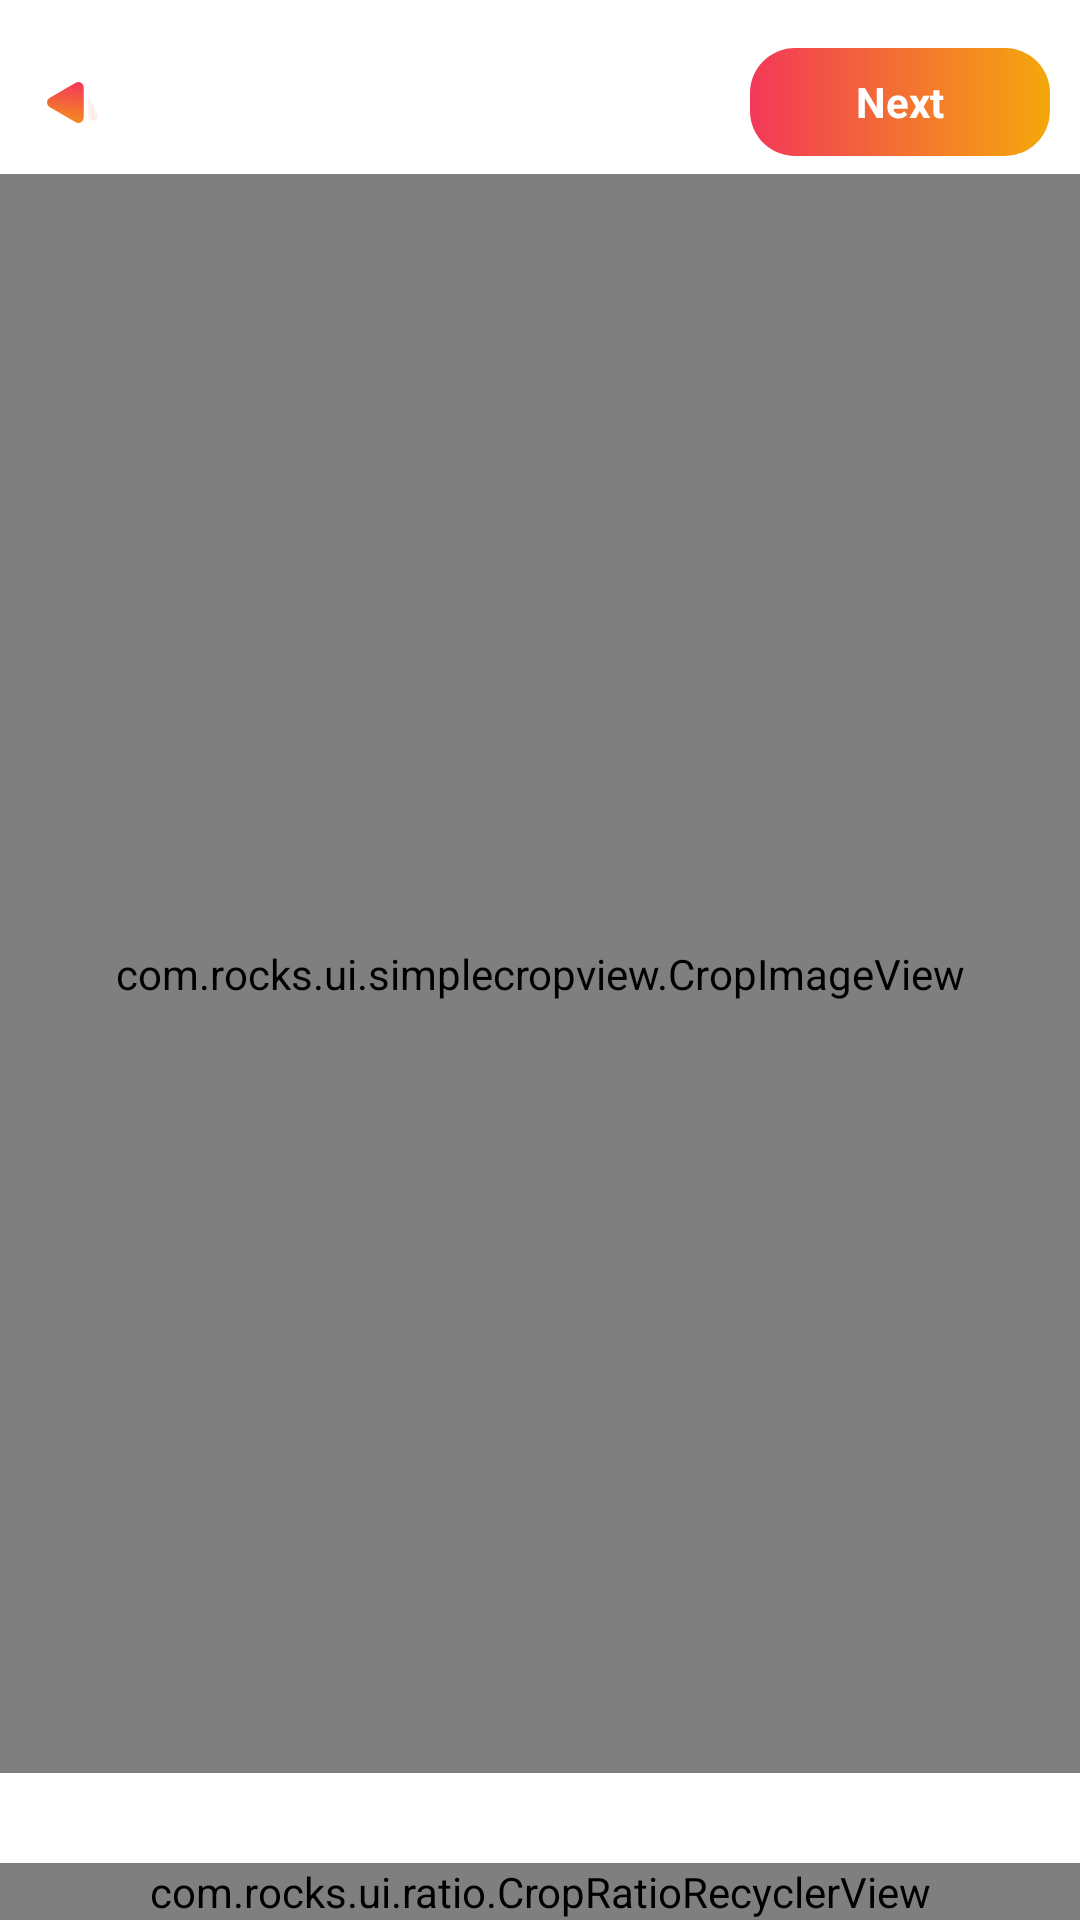

Where icons sit on this 1080w x 1920h app screen, as bbox(x1, y1, x2, y2):
back: bbox(47, 82, 84, 123)
